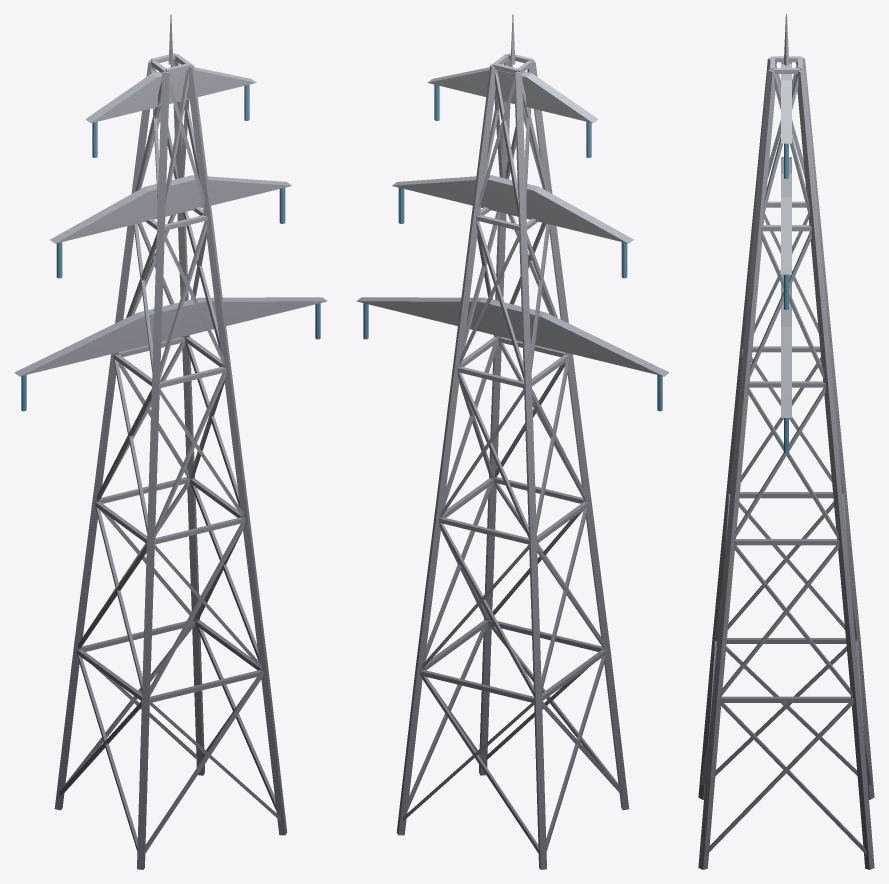
File: Power_Pylon.fbx
The picture shows the model from 3 angles, left to right: view 1: azimuth 30°, elevation 25°; view 2: azimuth 150°, elevation 25°; view 3: azimuth 270°, elevation 25°; orthographic projection.
Parts seen in each view (by area): view 1: Power_Pylon_LOD0; view 2: Power_Pylon_LOD0; view 3: Power_Pylon_LOD0.
Part boxes in pixels (left/top/right/bottom): Power_Pylon_LOD0: left=14, top=14, right=327, bottom=869; Power_Pylon_LOD0: left=356, top=14, right=669, bottom=869; Power_Pylon_LOD0: left=698, top=14, right=874, bottom=869.
Size of what is drawn, in the model's own units: 13 by 32.51 by 6.34.
Materials: 1 (1 with a texture image).
